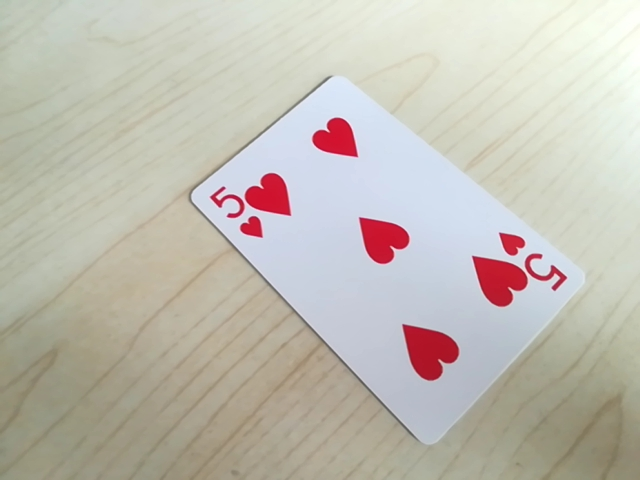hx 5: (495, 232, 572, 296), (201, 188, 270, 237)
